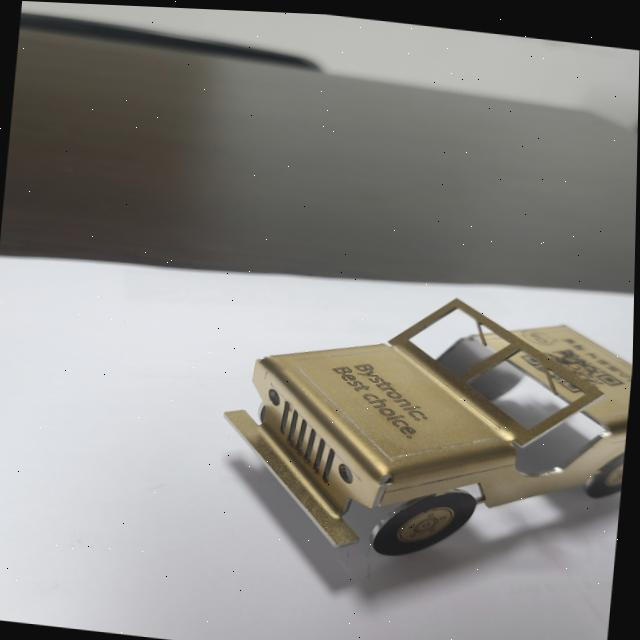tire: (373, 476, 480, 563), (585, 426, 627, 496)
